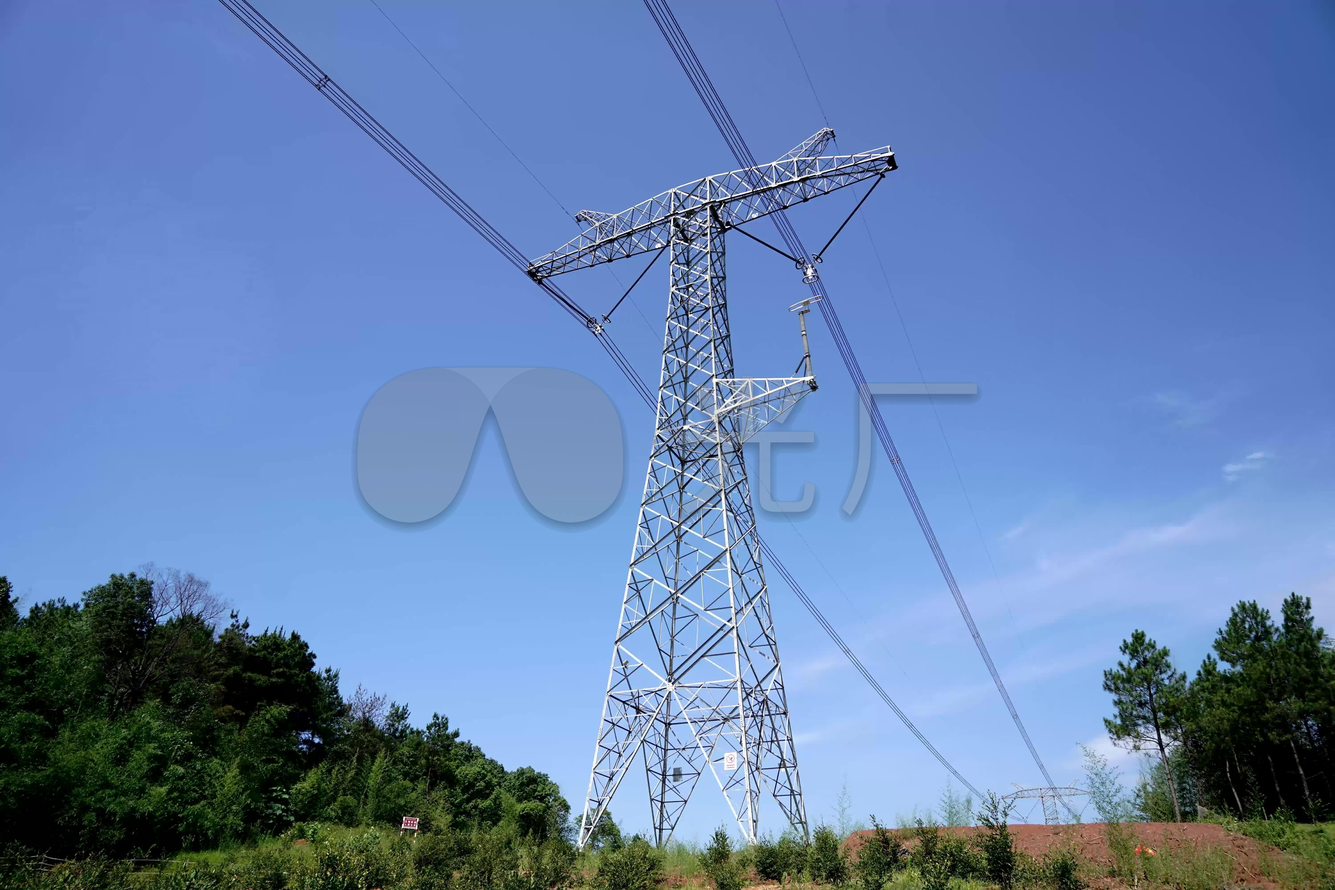power_tower: (510, 119, 912, 844)
